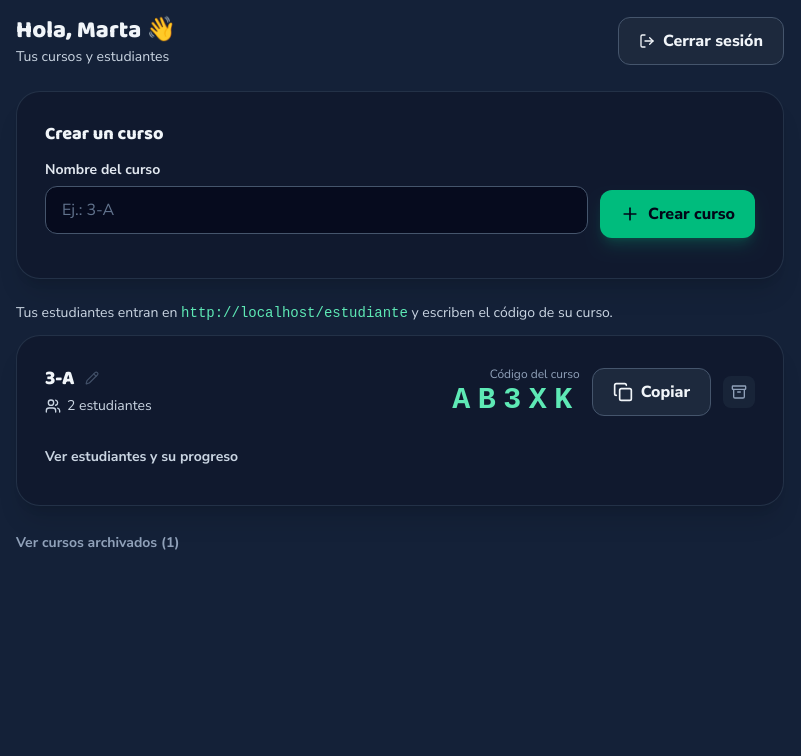
TeacherPanel con datos › renombrar estudiante: guarda en Supabase y actualiza la lista
The width and height of the screenshot is (801, 756).
Expected: the text "Tus cursos y estudiantes" is shown, x1=16 y1=47 x2=176 y2=67
Step 1. Click the heading "Ver estudiantes y su progreso" → click(142, 456), box x1=45 y1=447 x2=238 y2=466
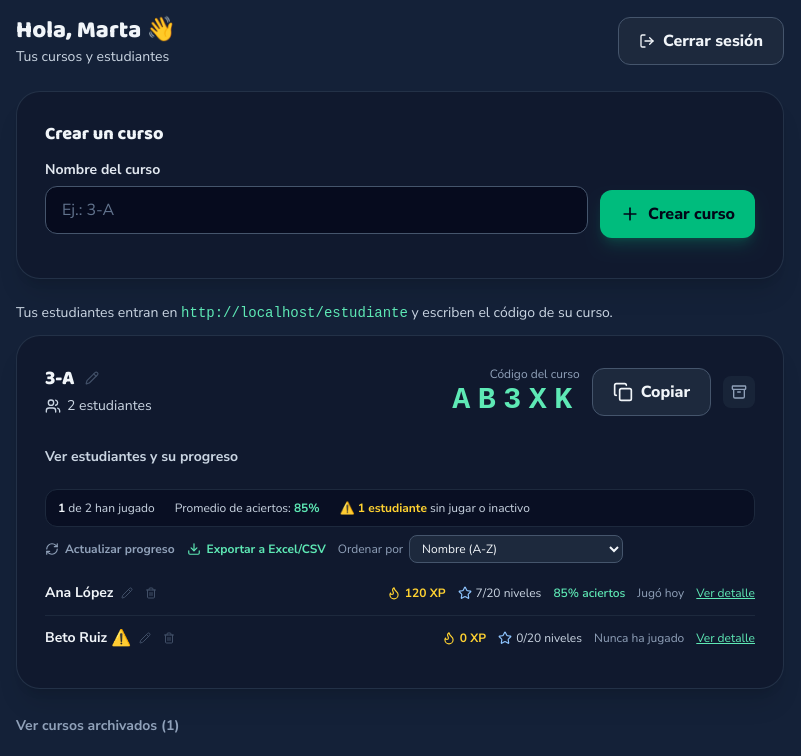
Now the text "120 XP" is shown, box x1=387 y1=585 x2=446 y2=601
Step 2. Click the button named "Renombrar a Ana López" → click(127, 593), box x1=117 y1=583 x2=137 y2=603
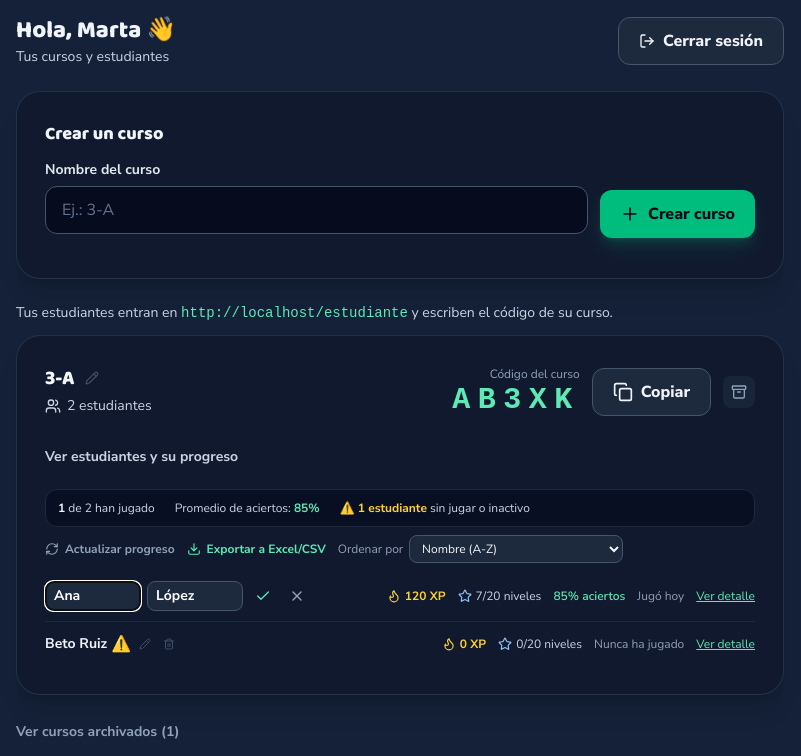
Step 3. Replace the text in the 1st field with placeholder "Nombre" with "Anita" → (93, 596), box x1=45 y1=581 x2=141 y2=611
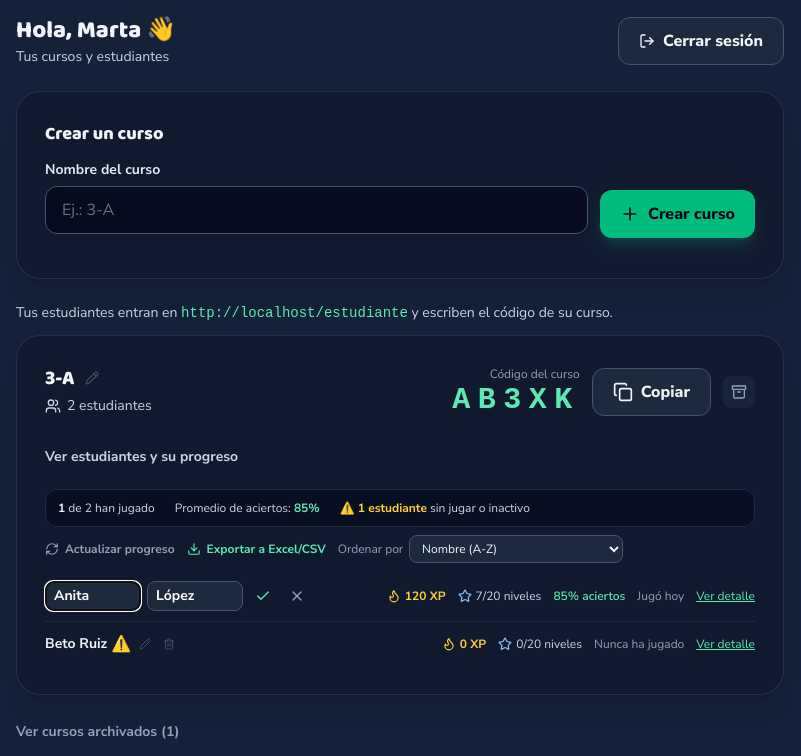
Step 4. Click the button named "Guardar" → click(263, 596), box x1=249 y1=582 x2=277 y2=610
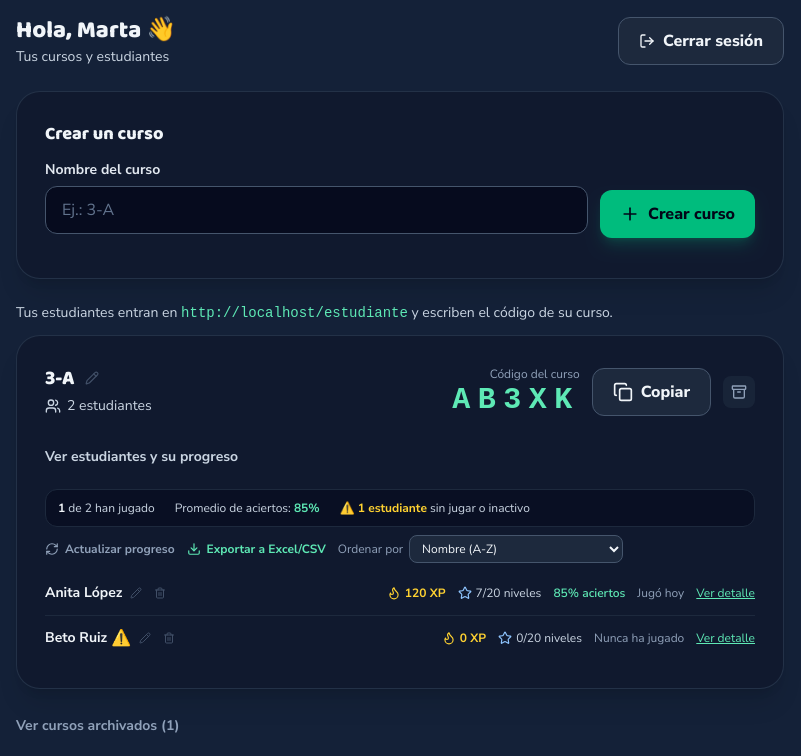
Now the text "Anita López" is shown, box x1=45 y1=583 x2=122 y2=603
